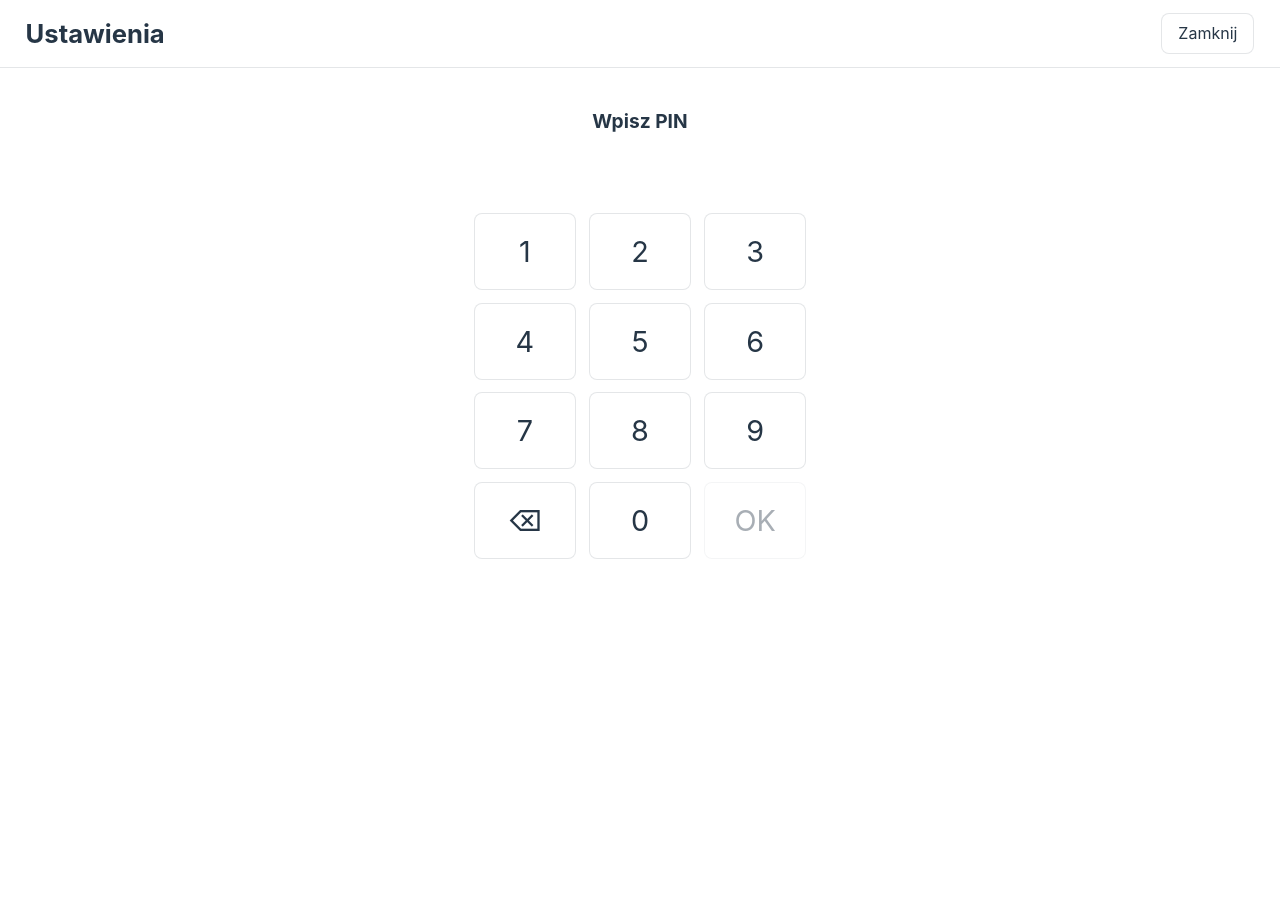
Test: SettingsDialog › shows the settings after the right PIN
Click the button "1".
click(525, 252)  # box [474,213,576,290]
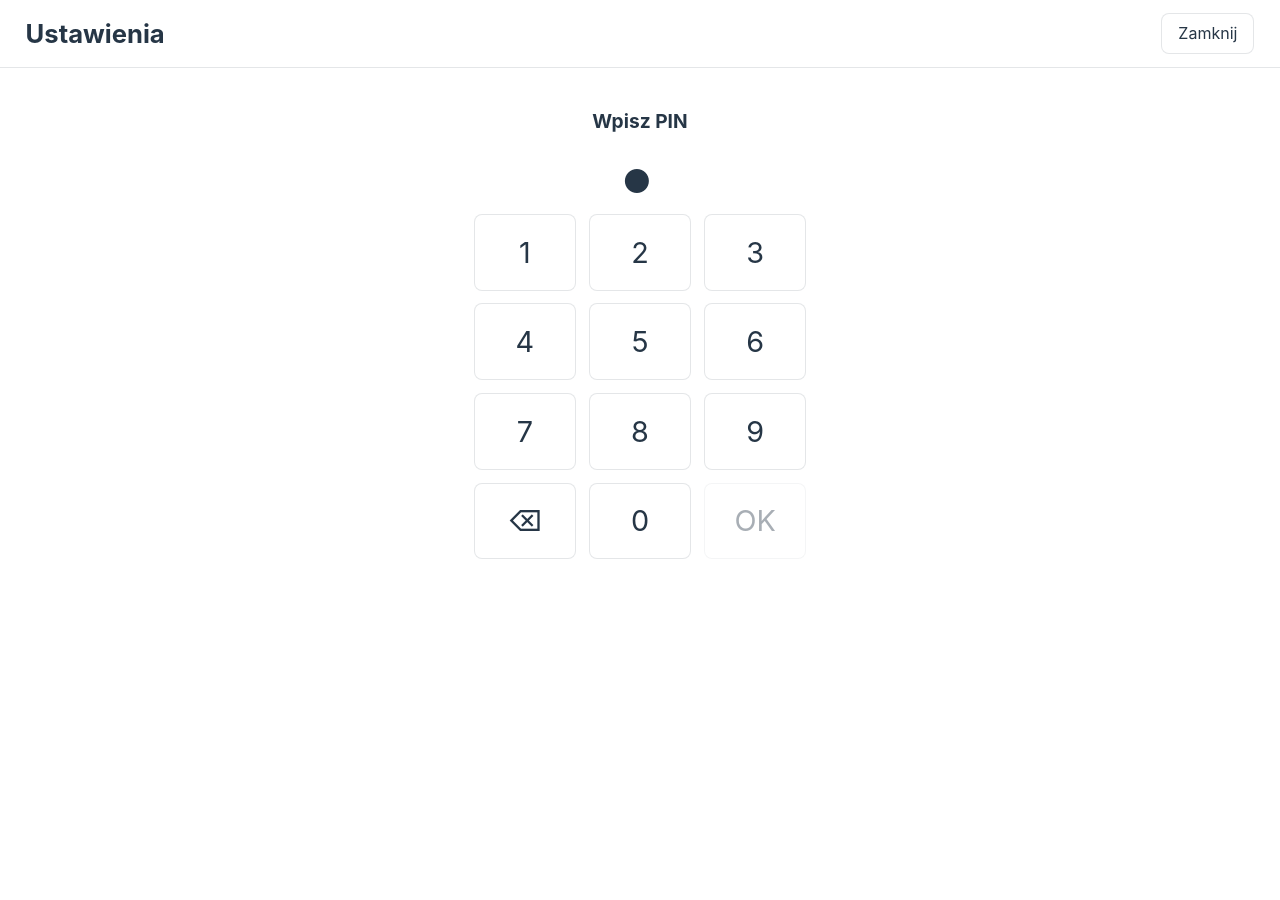
Click the button "2".
click(640, 252)  # box [589,214,691,291]
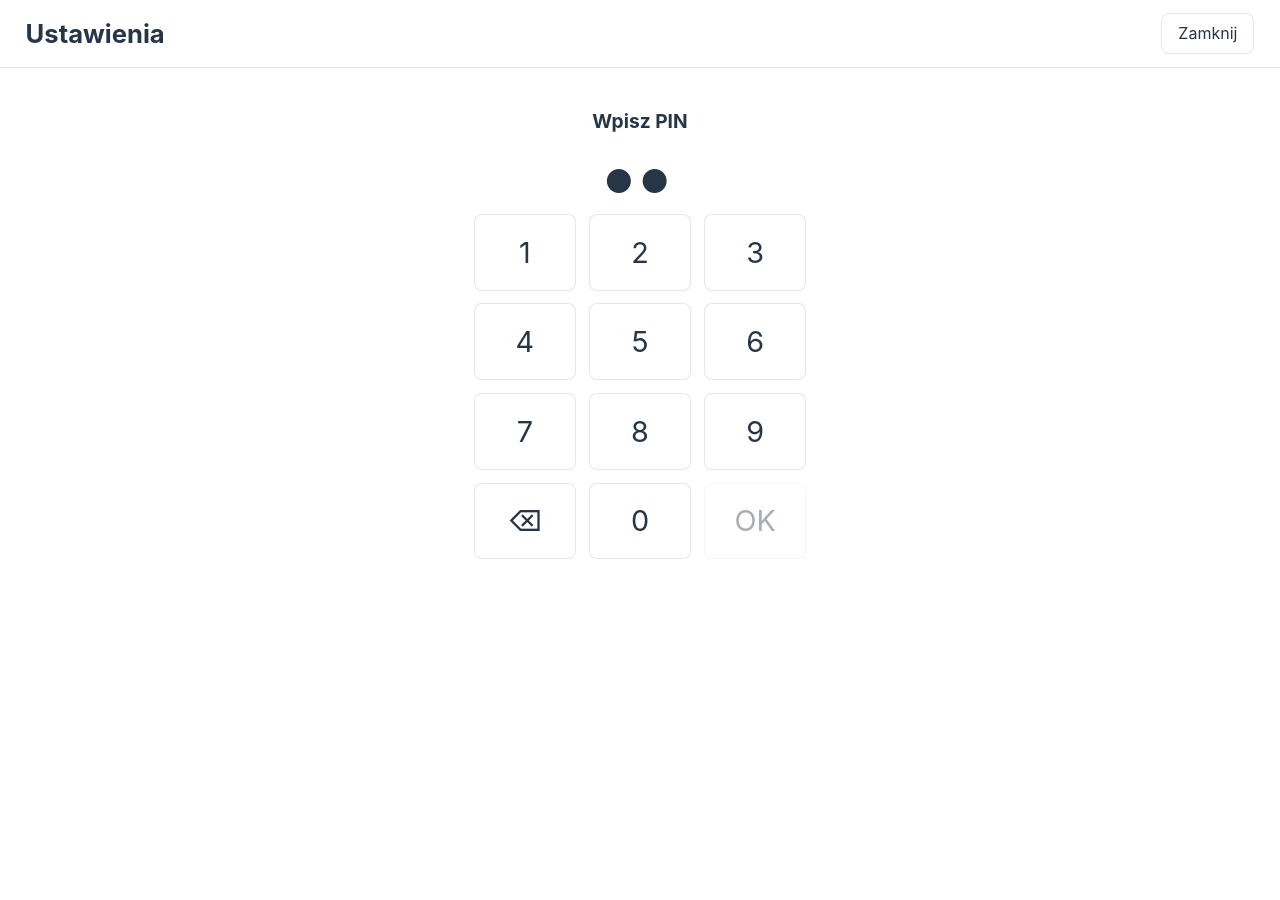
Click the button "3".
click(755, 252)  # box [704,214,806,291]
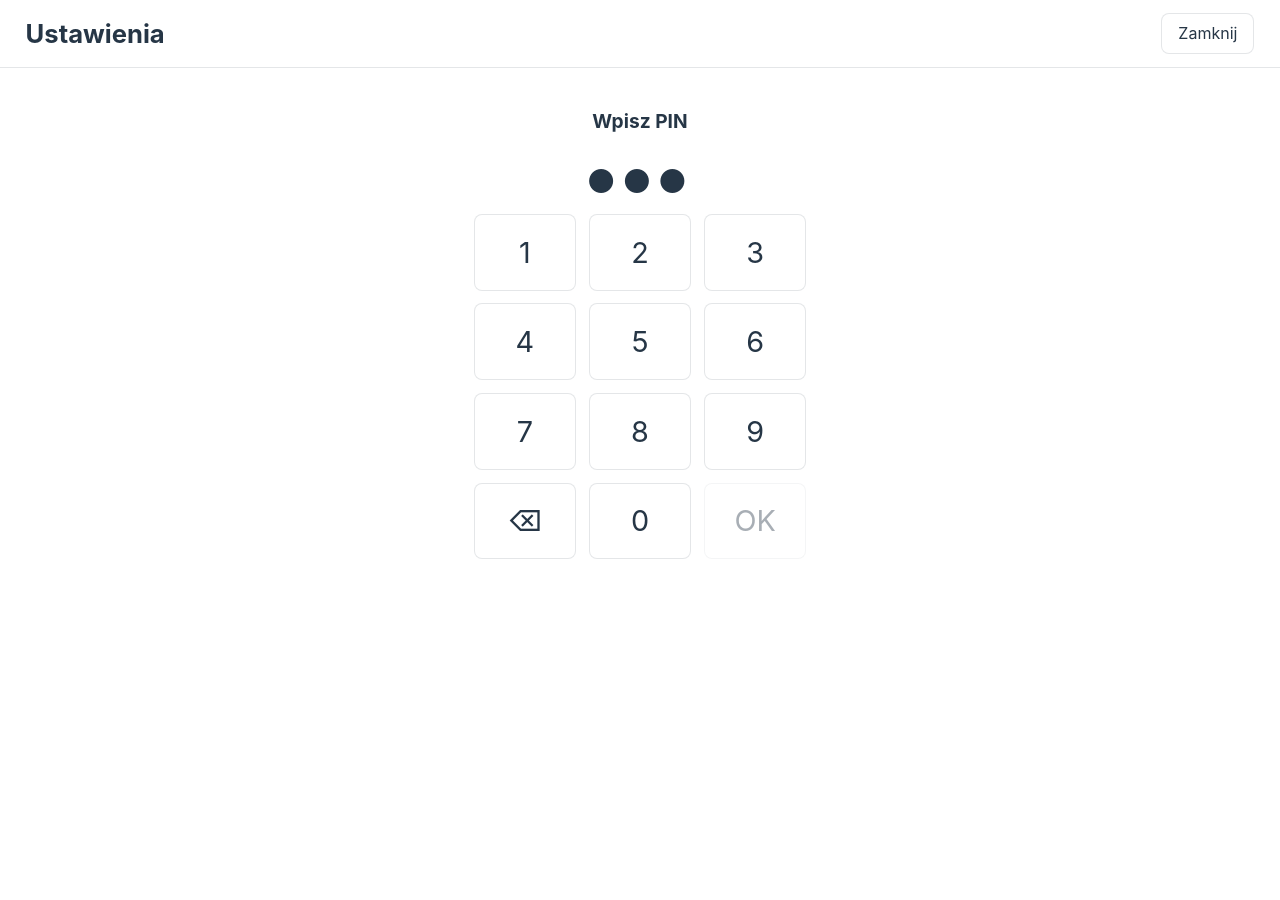
Click the button "4".
click(525, 342)  # box [474,303,576,380]
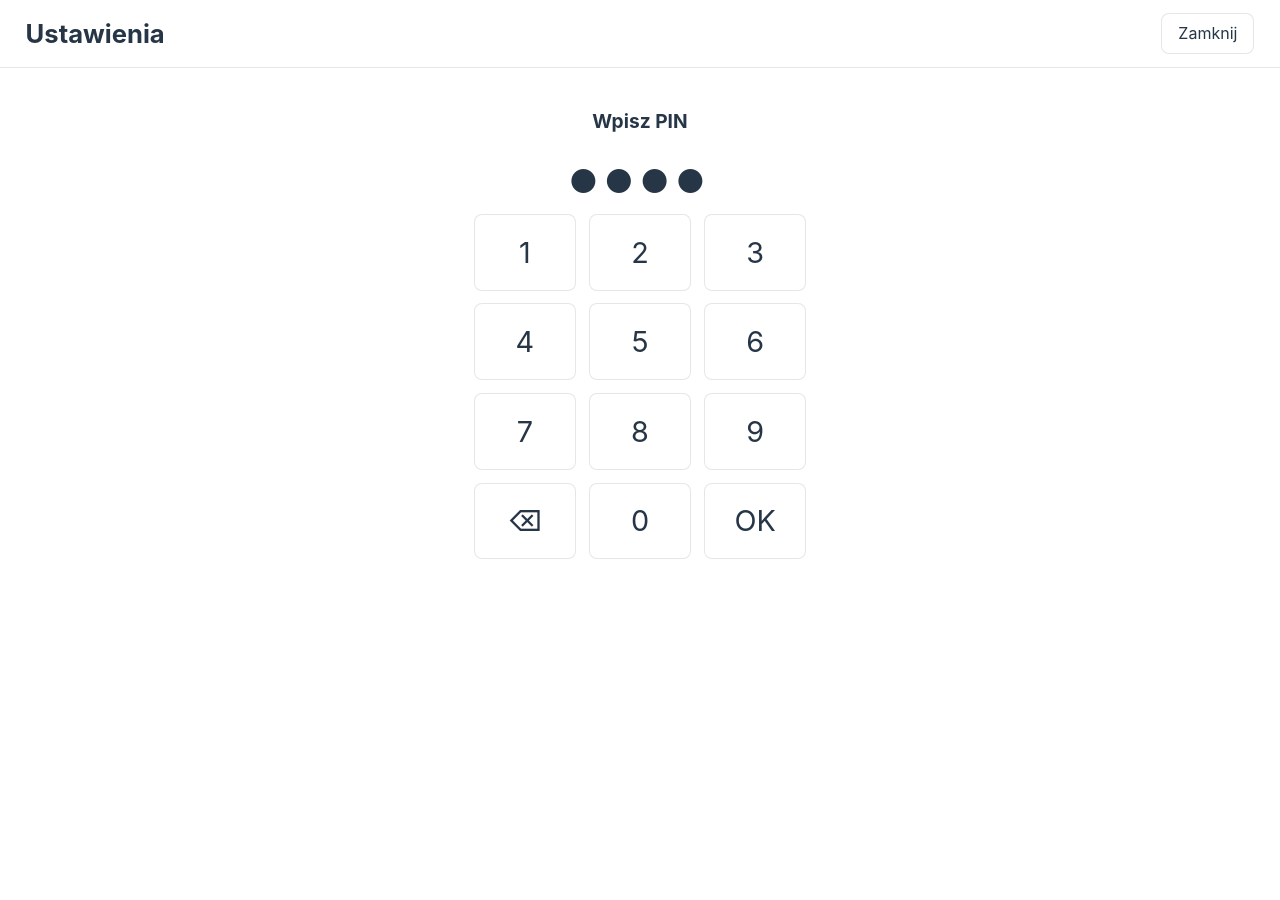
Click the button "OK".
click(755, 521)  # box [704,483,806,559]
(page scrolled)
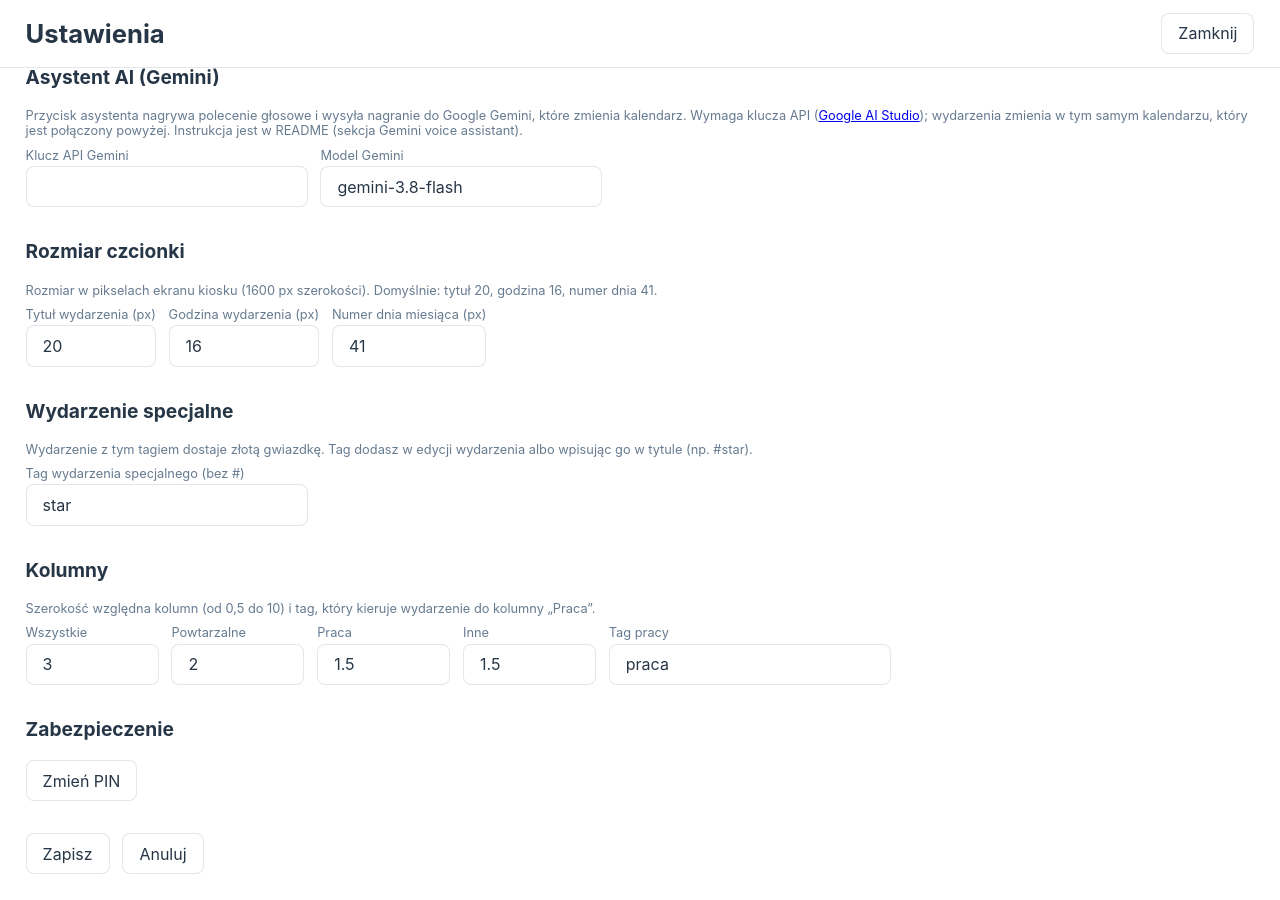
Result: the button "Zapisz" is shown at [26,833,110,874]
